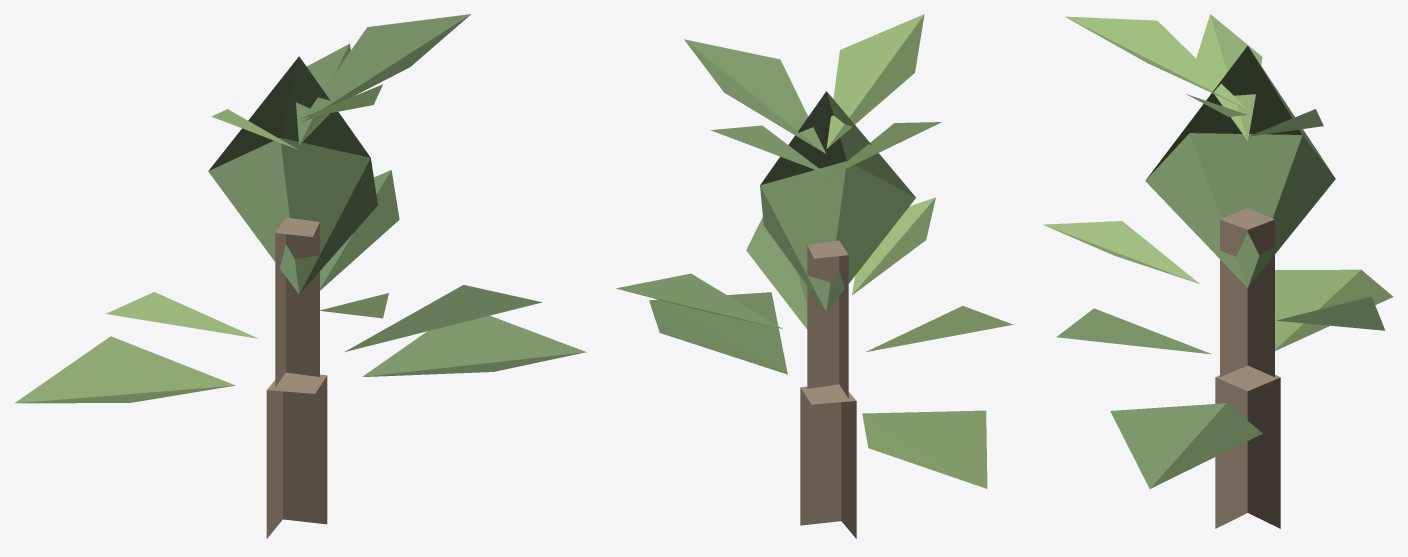
The model's file is guan.huanglu@seedling__spring.glb.
3 renders of one model, left to right at view 1: azimuth 30°, elevation 25°; view 2: azimuth 150°, elevation 25°; view 3: azimuth 270°, elevation 25°, orthographic. The views are drawn at different scales.
Parts seen in each view (by area): view 1: guan.huanglu@seedling__spring; view 2: guan.huanglu@seedling__spring; view 3: guan.huanglu@seedling__spring.
Boxes of the visible parts, x1,y1,x2,y2 form: guan.huanglu@seedling__spring: (15, 14, 586, 538); guan.huanglu@seedling__spring: (615, 14, 1012, 538); guan.huanglu@seedling__spring: (1043, 14, 1393, 528).
Bounding box in the file's own units: 0.2467 × 0.2495 × 0.1573.
